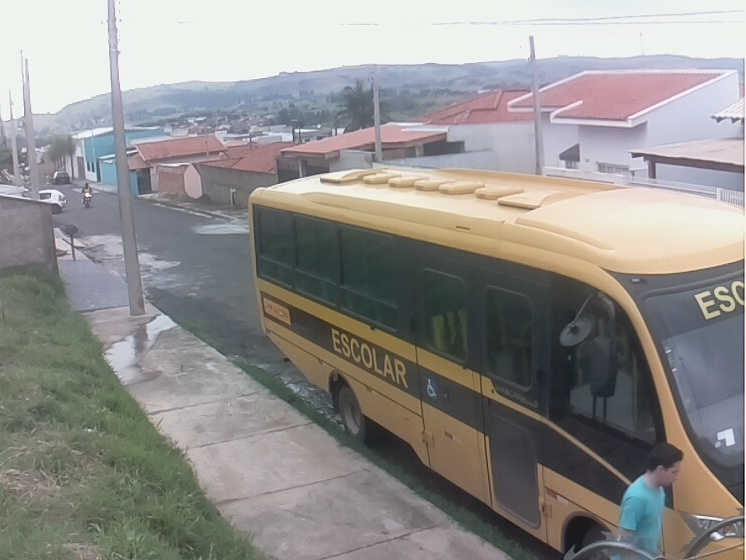person: (617, 441, 687, 560)
